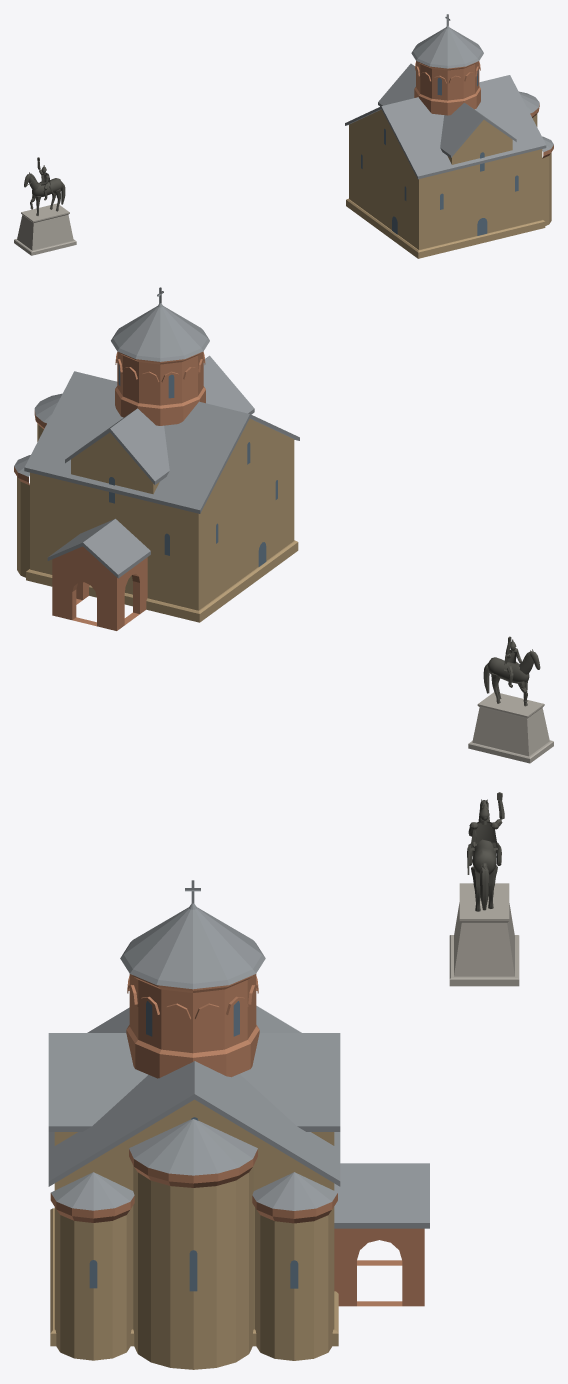
File: tbilisi-metekhi-church.glb
The picture shows the model from 3 angles, top to bottom: view 1: azimuth 30°, elevation 25°; view 2: azimuth 150°, elevation 25°; view 3: azimuth 270°, elevation 25°; orthographic projection. The views are drawn at different scales.
Visible parts, largest first — view 1: Metekhi Church and the statue of Vakhtang Gorgasali; view 2: Metekhi Church and the statue of Vakhtang Gorgasali; view 3: Metekhi Church and the statue of Vakhtang Gorgasali.
Boxes of the visible parts, bbox=[...] form: Metekhi Church and the statue of Vakhtang Gorgasali: bbox=[14, 14, 553, 258]; Metekhi Church and the statue of Vakhtang Gorgasali: bbox=[14, 287, 553, 763]; Metekhi Church and the statue of Vakhtang Gorgasali: bbox=[48, 792, 519, 1369].
Size of the model in its own units: 58.24 by 25.6 by 26.97.
